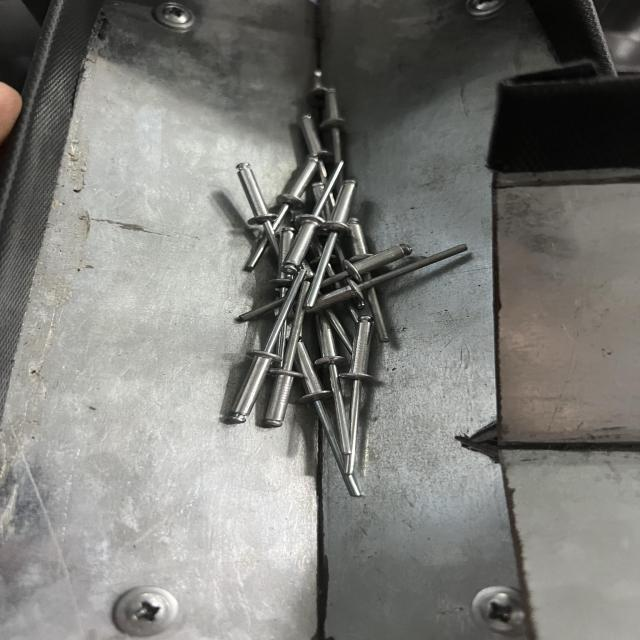rivet: (229, 268, 307, 424), (307, 178, 355, 308), (340, 319, 374, 498)
